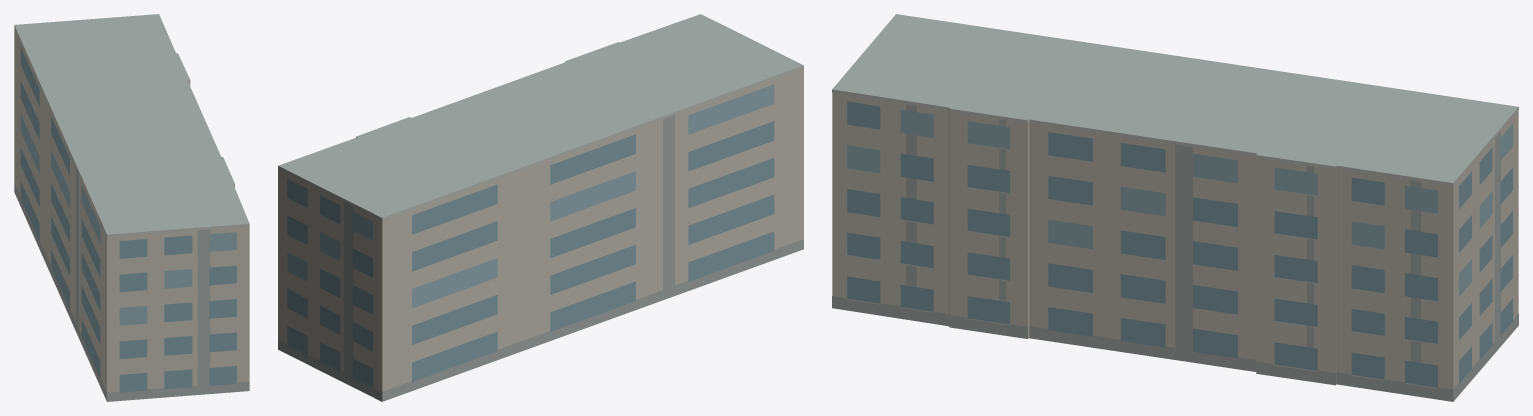
Rendered from survey-upis-32538980.glb.
3 views of the same model, side by side, from view 1: azimuth 30°, elevation 25°; view 2: azimuth 150°, elevation 25°; view 3: azimuth 270°, elevation 25° (orthographic). The views are drawn at different scales.
Parts seen in each view (by area): view 1: survey-upis-32538980.tmp; view 2: survey-upis-32538980.tmp; view 3: survey-upis-32538980.tmp.
Part boxes in pixels (x1,y1,x2,y2): survey-upis-32538980.tmp: [14, 14, 249, 401]; survey-upis-32538980.tmp: [278, 14, 803, 401]; survey-upis-32538980.tmp: [832, 14, 1518, 401].
Size of the model in its own units: 25.61 by 15.44 by 43.93.
